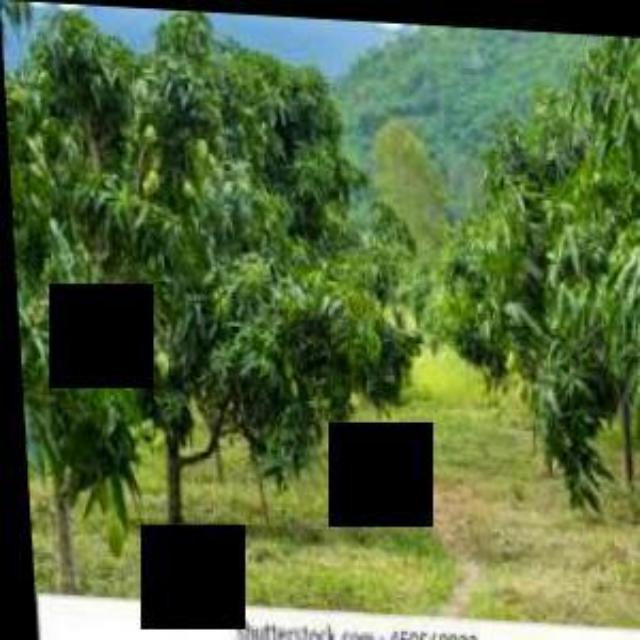tree: (11, 11, 431, 565), (420, 24, 638, 518)
